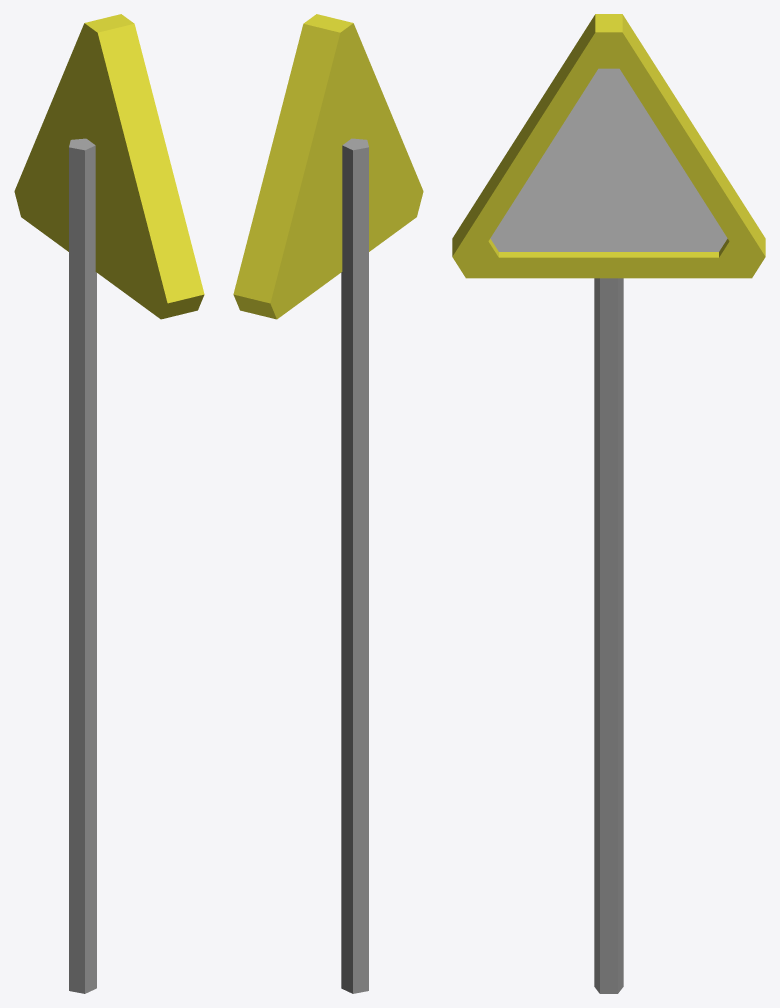
Rendered from sign_triangle.glb.
The picture shows the model from 3 angles, left to right: view 1: azimuth 30°, elevation 25°; view 2: azimuth 150°, elevation 25°; view 3: azimuth 270°, elevation 25°; orthographic projection. The views are drawn at different scales.
Parts seen in each view (by area): view 1: Triangle; view 2: Triangle; view 3: Triangle.
Part boxes in pixels (x1=…): Triangle: x1=14, y1=14, x2=204, y2=993; Triangle: x1=233, y1=14, x2=423, y2=993; Triangle: x1=452, y1=14, x2=765, y2=993.
Bounding box in the file's own units: 0.138 × 2.14 × 0.6198.
